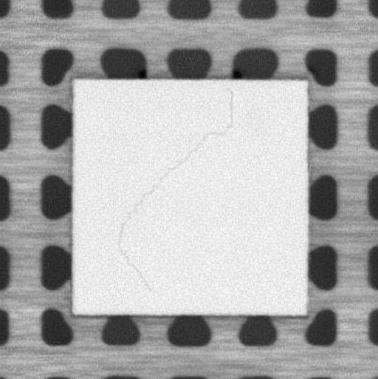DIE_CRACK: (111, 87, 233, 291)
